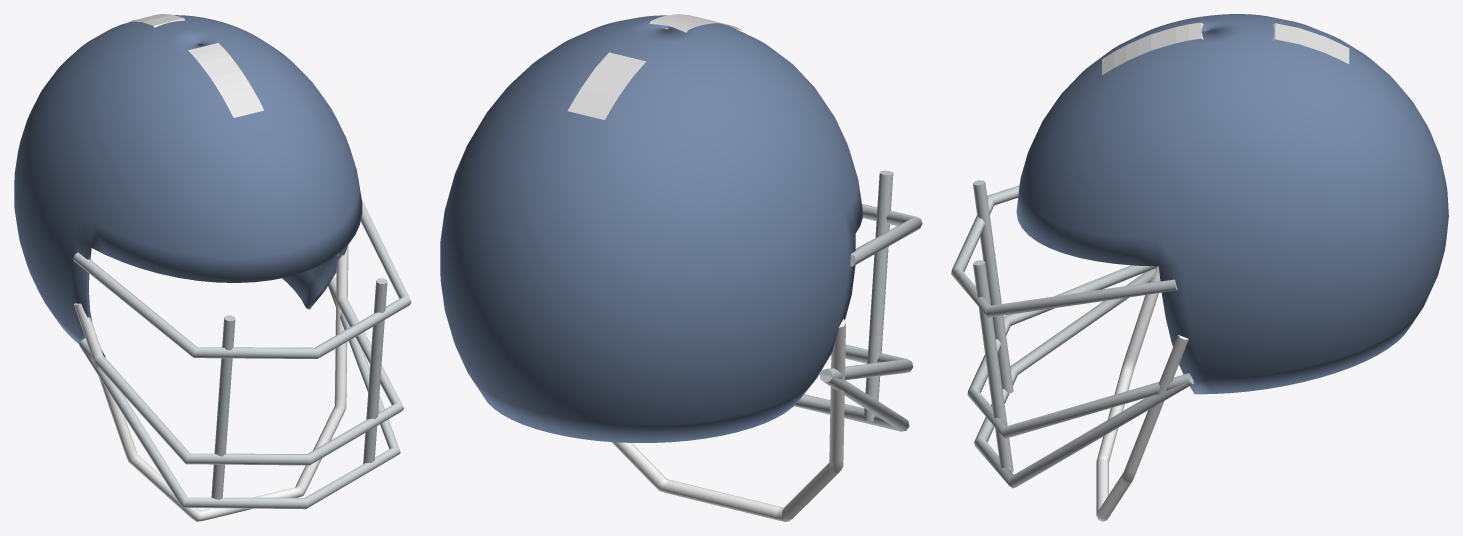
File: InnersceneHelmet.glb
The picture shows the model from 3 angles, left to right: view 1: azimuth 30°, elevation 25°; view 2: azimuth 150°, elevation 25°; view 3: azimuth 270°, elevation 25°; orthographic projection. The views are drawn at different scales.
Parts seen in each view (by area): view 1: InnersceneHelmet; view 2: InnersceneHelmet; view 3: InnersceneHelmet.
Part boxes in pixels (x1,y1,x2,y2): InnersceneHelmet: (14, 14, 411, 521); InnersceneHelmet: (440, 14, 922, 521); InnersceneHelmet: (951, 14, 1448, 521).
Size of the model in its own units: 0.3201 by 0.461 by 0.4463.
